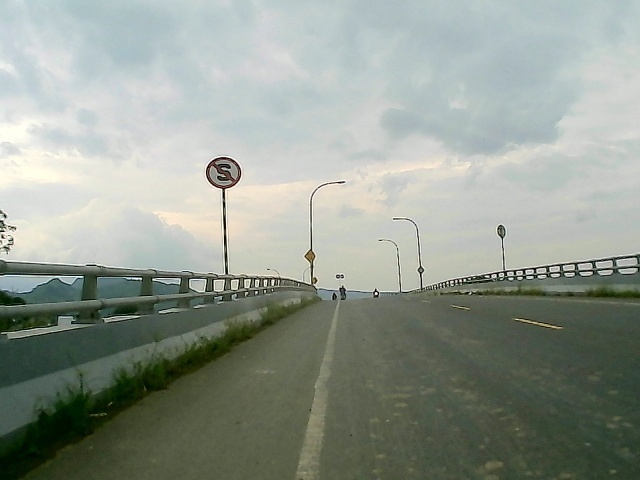Dilarang berhenti: (203, 155, 247, 191)
